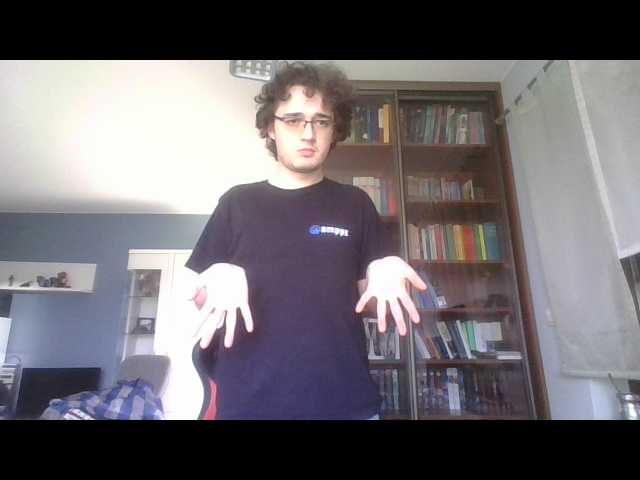hand: (184, 262, 267, 348), (355, 253, 434, 338)
